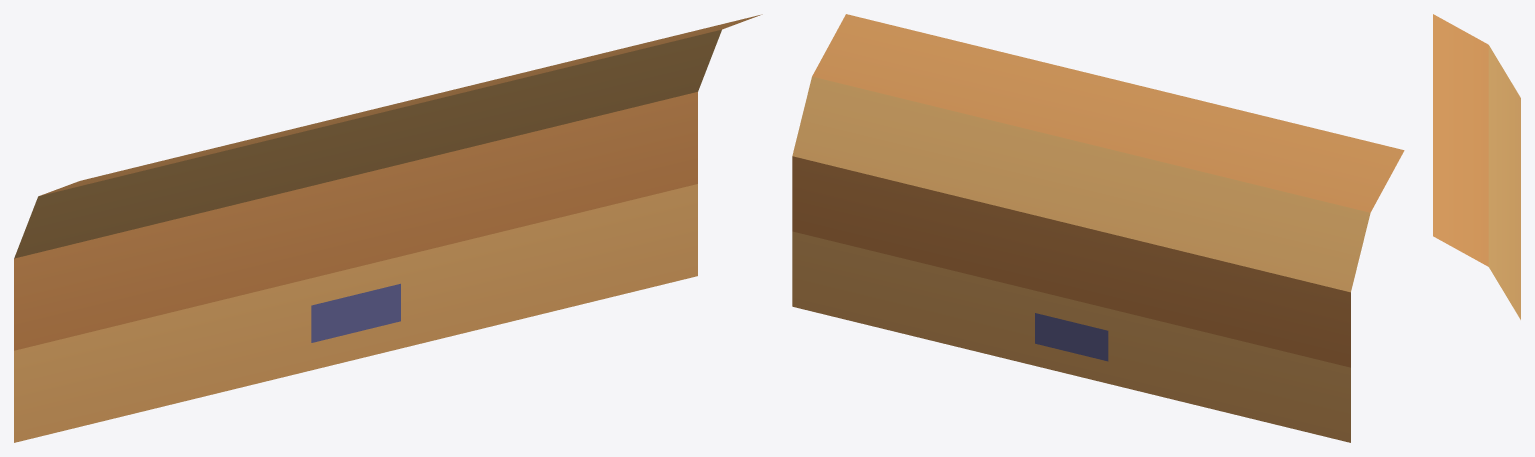
Rendered from door-wide-open.glb.
The picture shows the model from 3 angles, left to right: view 1: azimuth 30°, elevation 25°; view 2: azimuth 150°, elevation 25°; view 3: azimuth 270°, elevation 25°; orthographic projection. The views are drawn at different scales.
Parts seen in each view (by area): view 1: door-wide-open; view 2: door-wide-open; view 3: door-wide-open.
Part boxes in pixels (x1,y1,x2,y2): door-wide-open: (14,14,762,442); door-wide-open: (792,14,1404,442); door-wide-open: (1433,14,1520,319).
Size of the model in its own units: 1.8 by 0.7802 by 0.3.
Materials: 1 (1 with a texture image).
